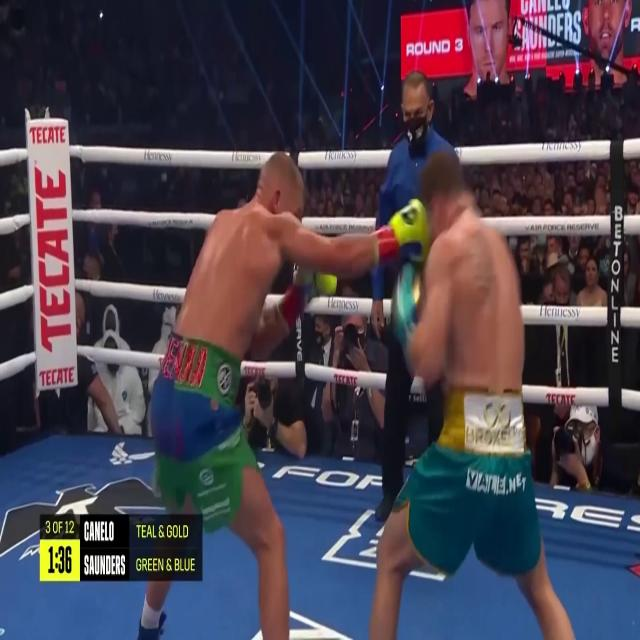boxer_1: (176, 151, 379, 359)
boxer_2: (409, 151, 525, 393)
gloves_1: (376, 199, 430, 263), (280, 267, 337, 324)
gloves_2: (392, 261, 422, 352)
